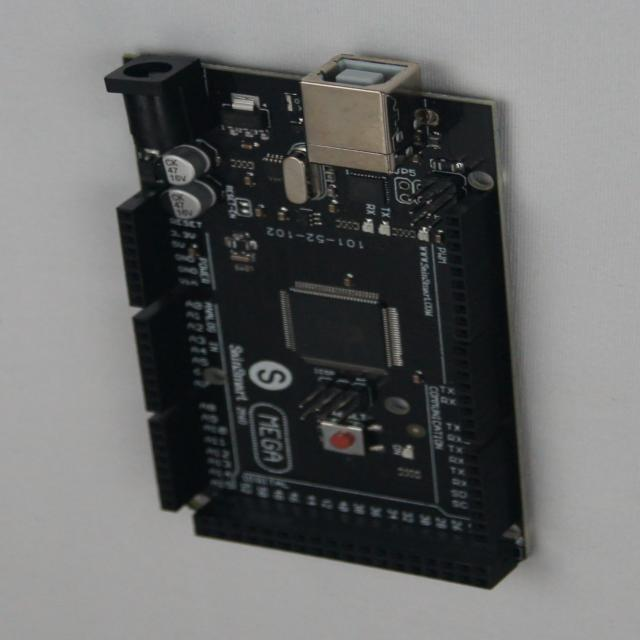Arduino Mega 2560 -Black-: (105, 54, 528, 589)
